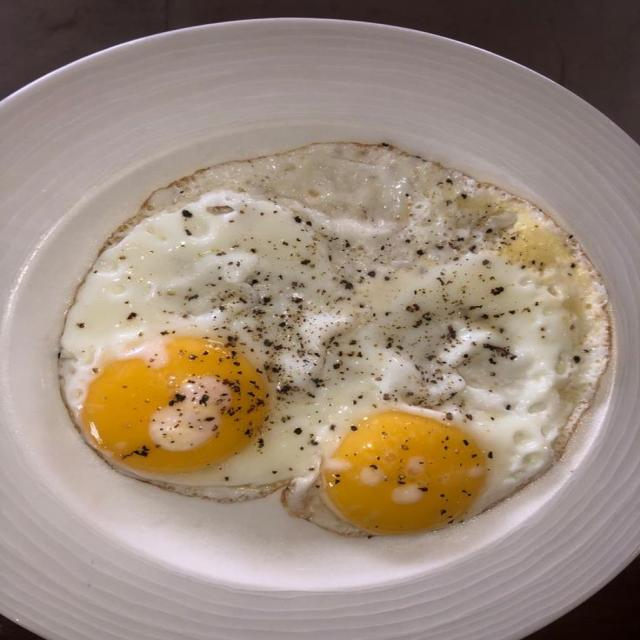fryed egg: (60, 144, 607, 534)
